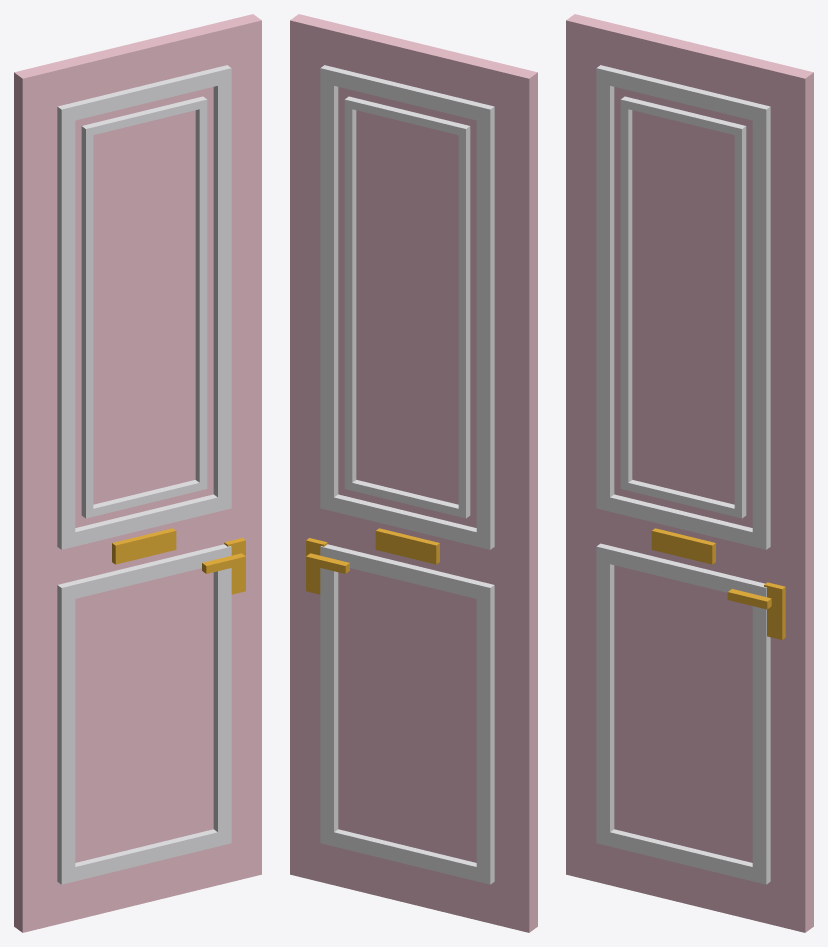
File: SM_Door_girls_inner_80x270.fbx
3 views of the same model, side by side, from view 1: azimuth 30°, elevation 25°; view 2: azimuth 150°, elevation 25°; view 3: azimuth 330°, elevation 25° (orthographic).
Visible parts, largest first — view 1: SM_Door_girls_inner_80x270; view 2: SM_Door_girls_inner_80x270; view 3: SM_Door_girls_inner_80x270.
Part boxes in pixels (x1,y1,x2,y2): SM_Door_girls_inner_80x270: (14,14,261,932); SM_Door_girls_inner_80x270: (290,14,537,932); SM_Door_girls_inner_80x270: (566,14,813,932).
Bounding box in the file's own units: 0.788 × 2.69 × 0.175.
